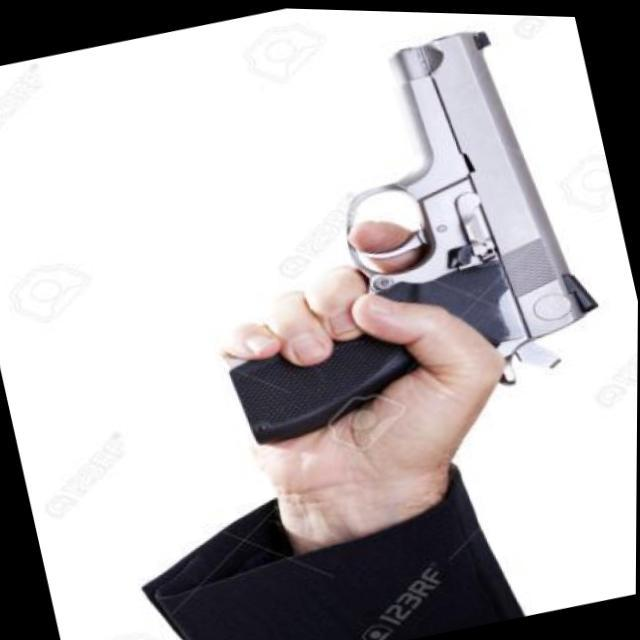weapon: (150, 4, 634, 484)
